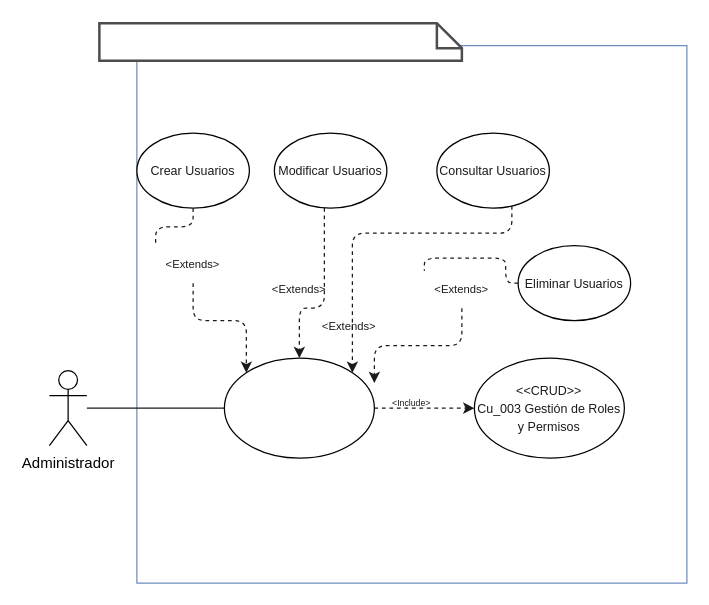
This 709x605 diagram has some shape labels left out. The shapes that lost their labels are listed below. From the top down, each one's centre as x and y in pixels, then its label:
At (280,41): "Cu_002 Caso de Uso Gestión de Usuarios".
At (298,407): "<<CRUD>> Cu_002 Gestión de Usuarios".
